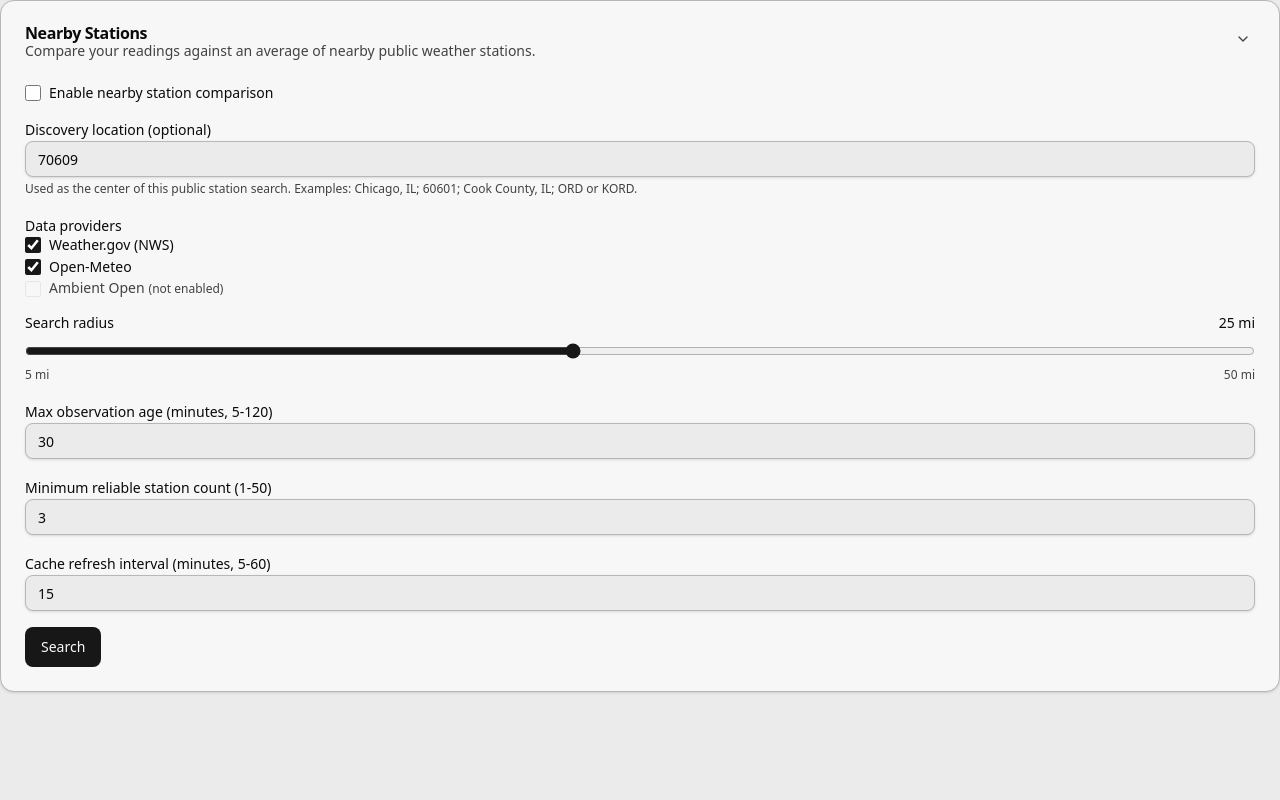
Test: NeighborsConfigPanel › shows a single friendly rate-limit message when search is throttled
Click the button with test id "settings-neighbors-search-button". click: click(63, 647)
box: [25,627,101,667]
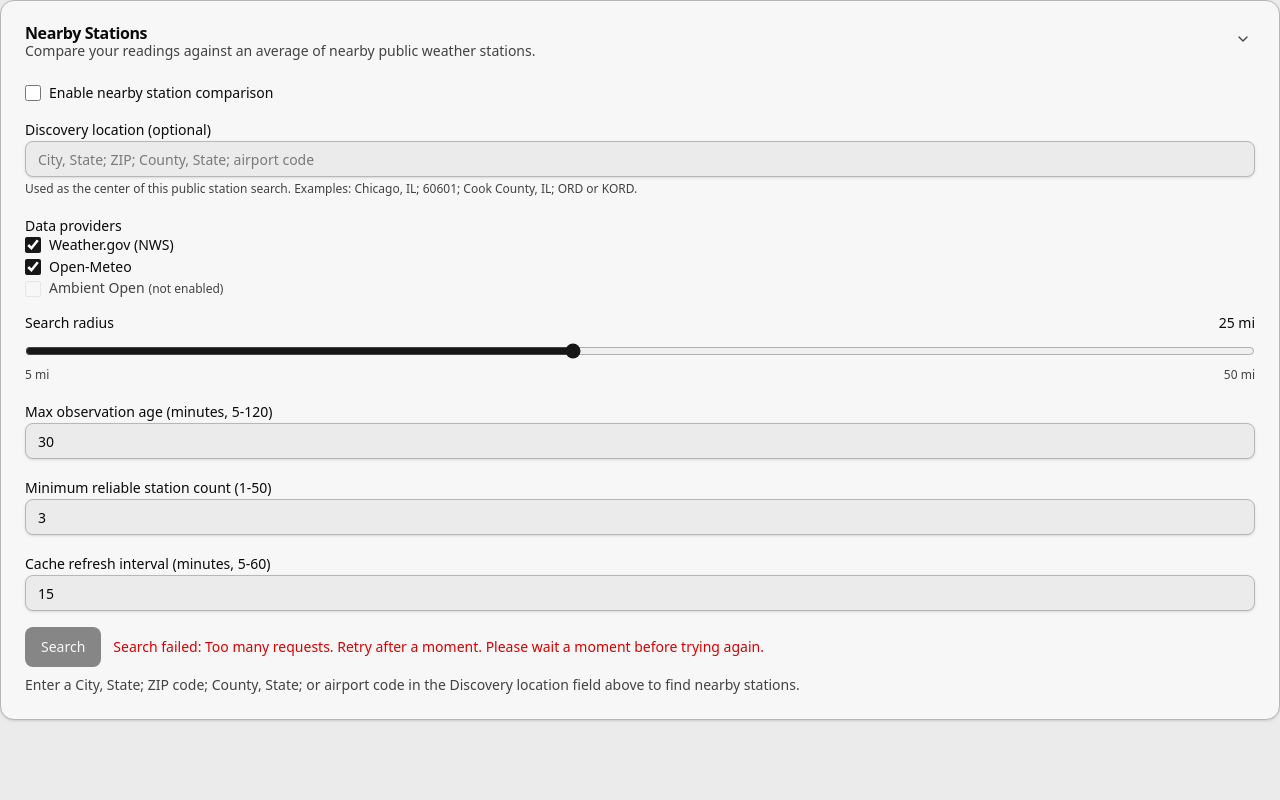
Now the message with test id "settings-neighbors-save-error" shows "Too many requests. Retry after a moment. Please wait a moment before trying again.", box [205,637,764,656]
